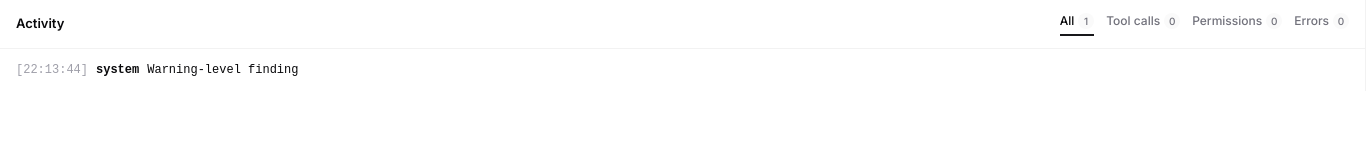
Scenario: ActivityColumn › Finding with severity='warning' does NOT appear in Errors tab, only in All
Check: the number of list items with test id "event-row" is 1, box [16, 63, 298, 77]
Note: Errors tab does NOT show it
Click the tab with test id "activity-tab-error": (1322, 24) [1294, 12, 1349, 36]
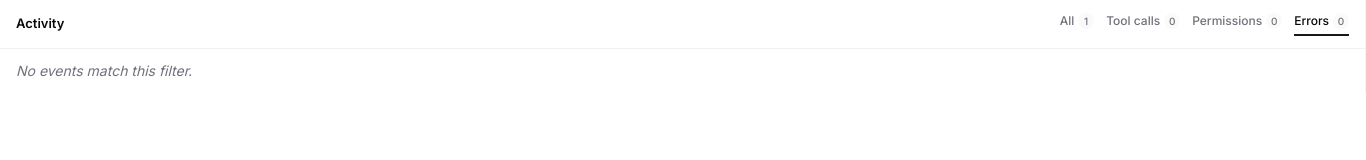
Check: no list items with test id "event-row" are shown
